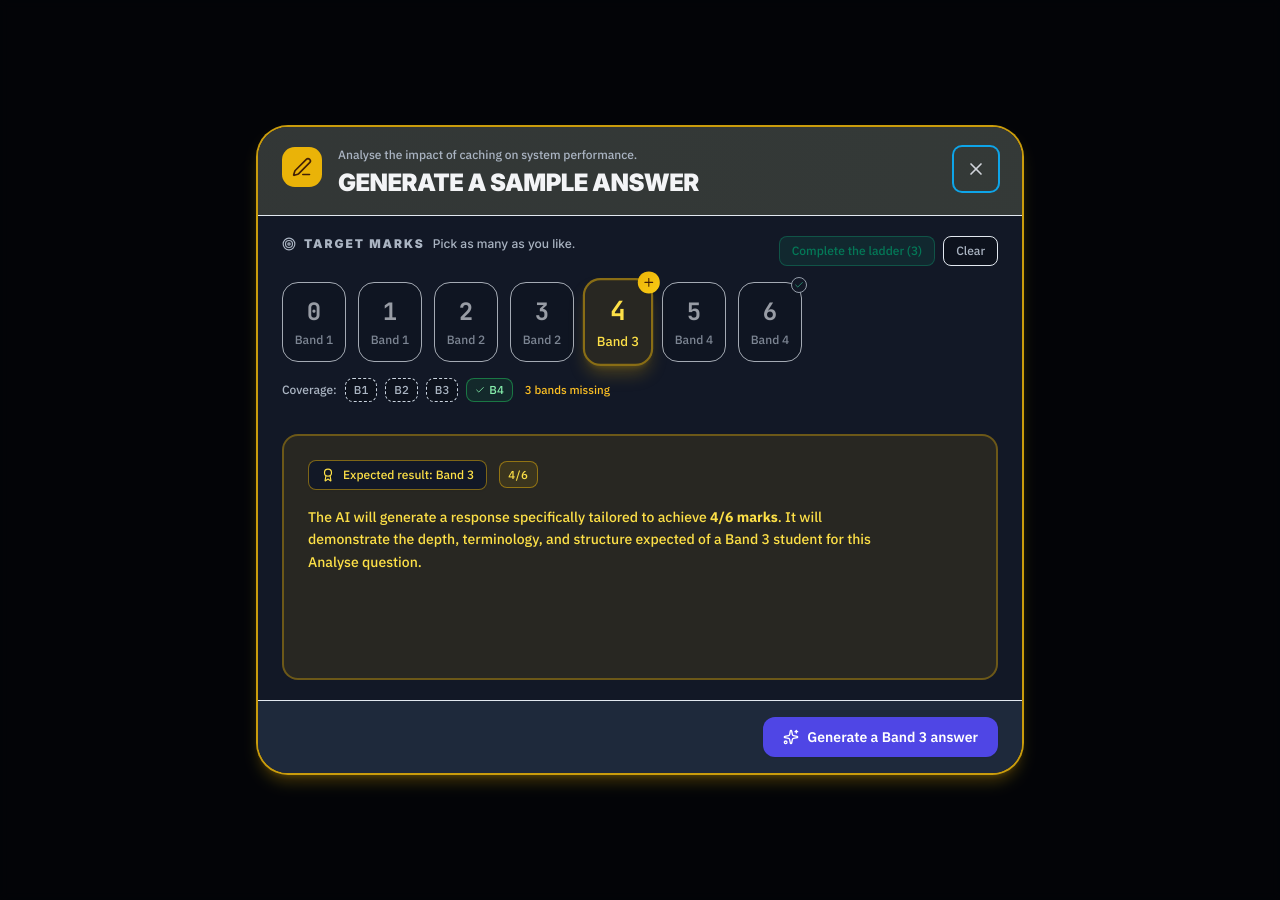
Test: a generated answer that repeats one already at that mark › holds it back rather than writing a second copy
The image size is (1280, 900).
Click the button "Clear": (971, 251) [943,236,998,266]
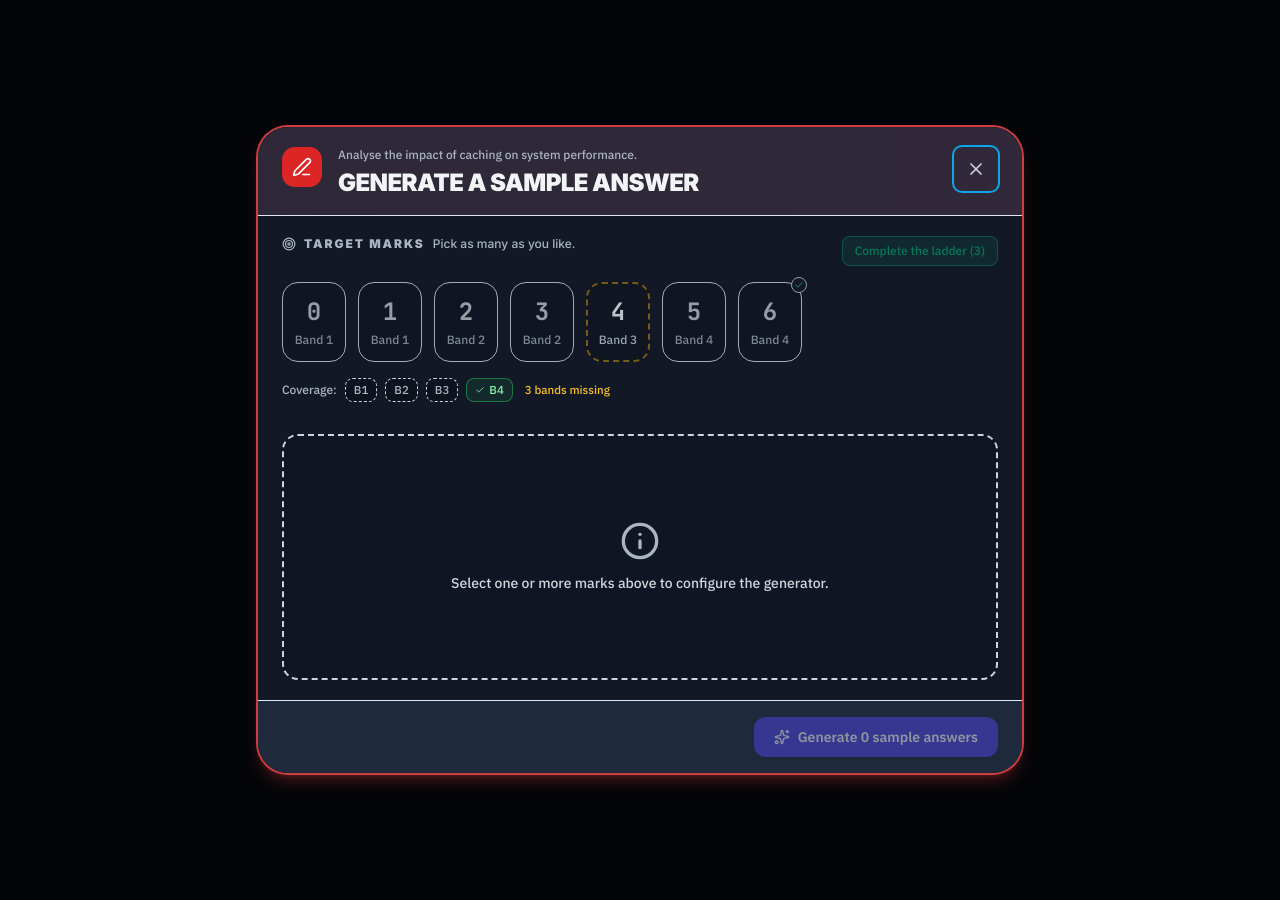
Click the button "6 Band 4": (770, 322) [738,282,802,362]
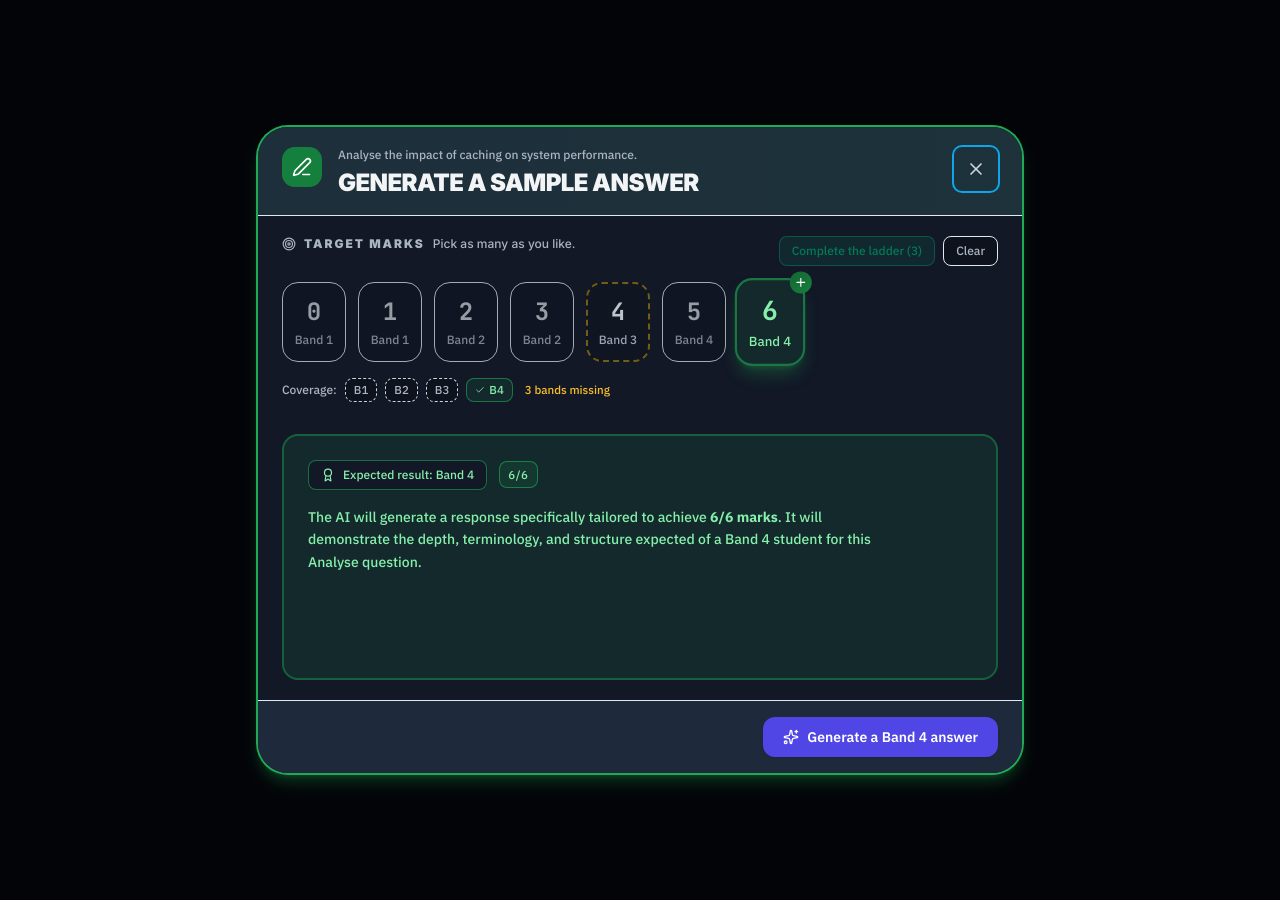
Click the button "Generate a Band 4 answer": (881, 737) [763,717,998,757]
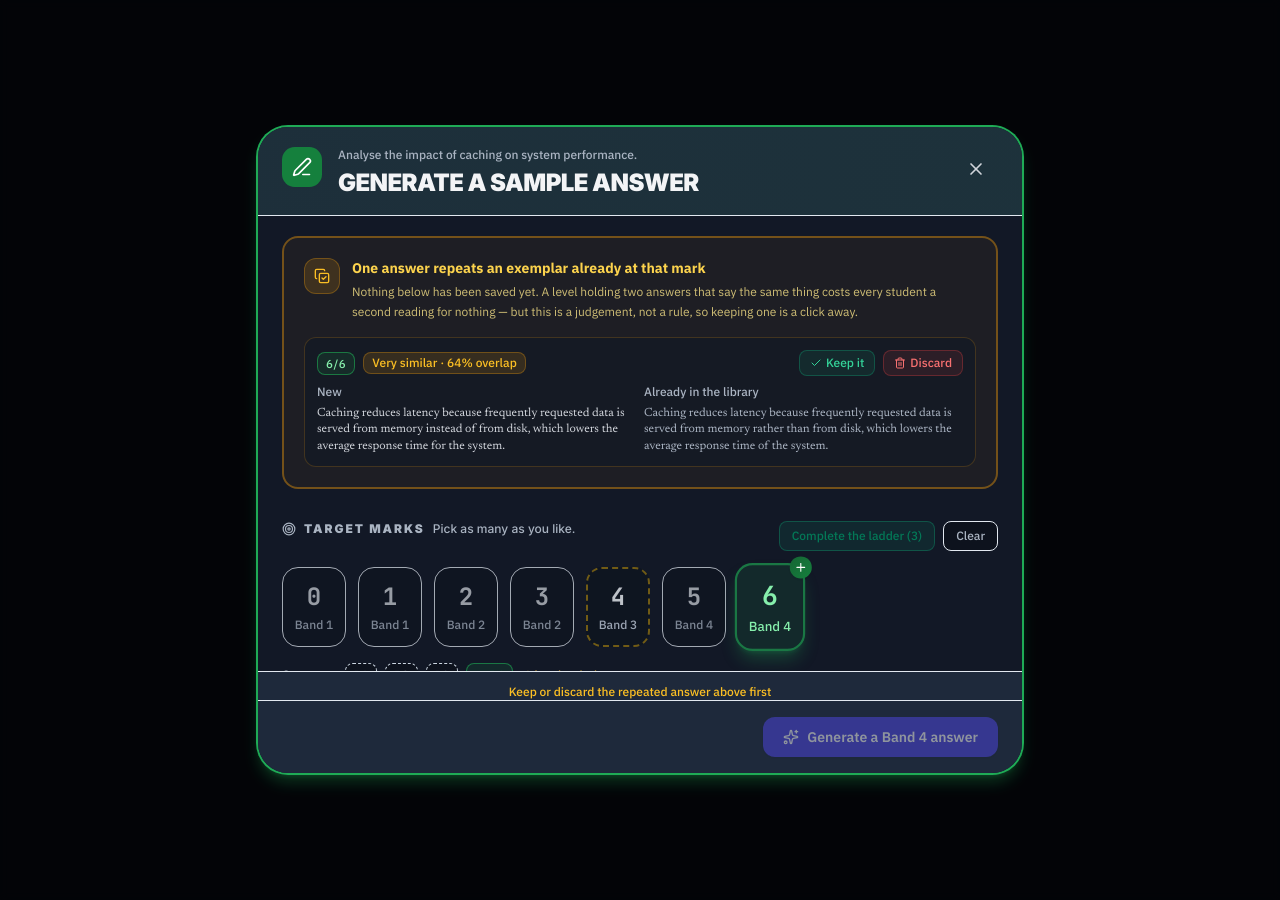
Expected: the heading "One answer repeats an exemplar already at that mark" is shown, [352,259,706,277]
